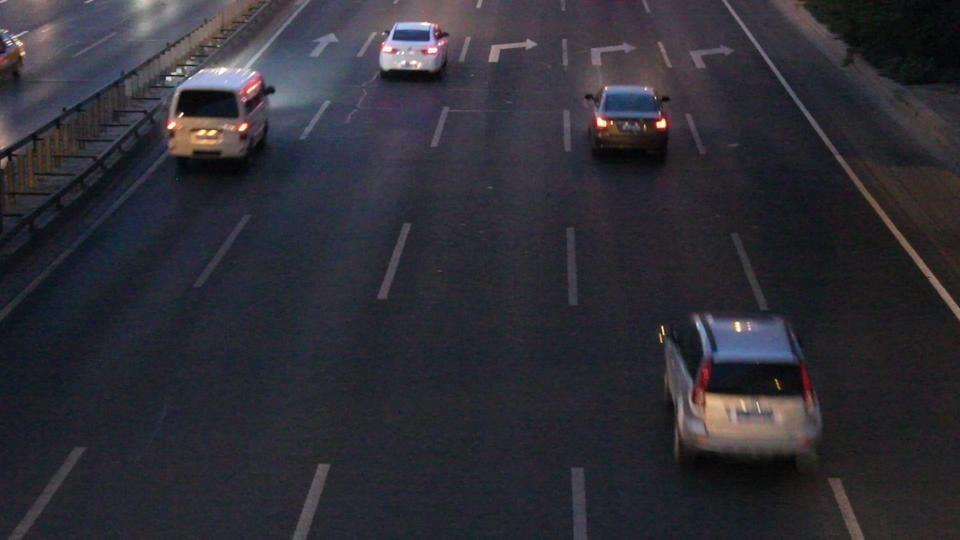car: (658, 310, 823, 471), (164, 67, 276, 169), (584, 84, 671, 162), (378, 21, 450, 80), (0, 29, 26, 81)
